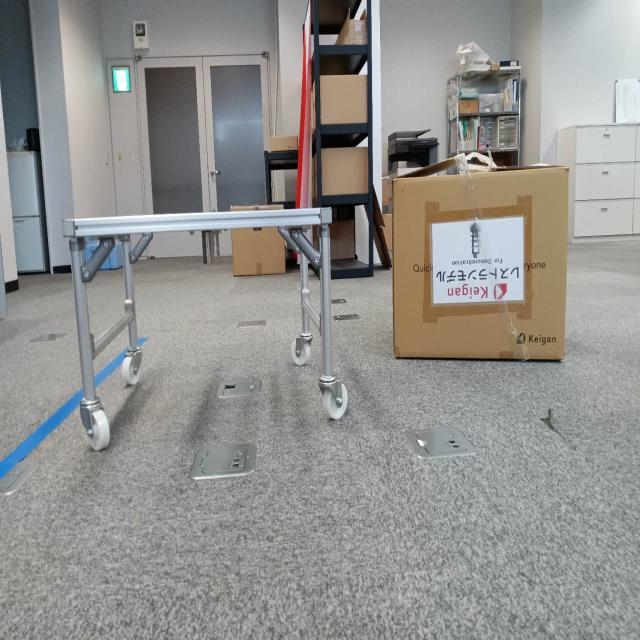box: (392, 166, 566, 366)
door: (68, 206, 326, 285)
